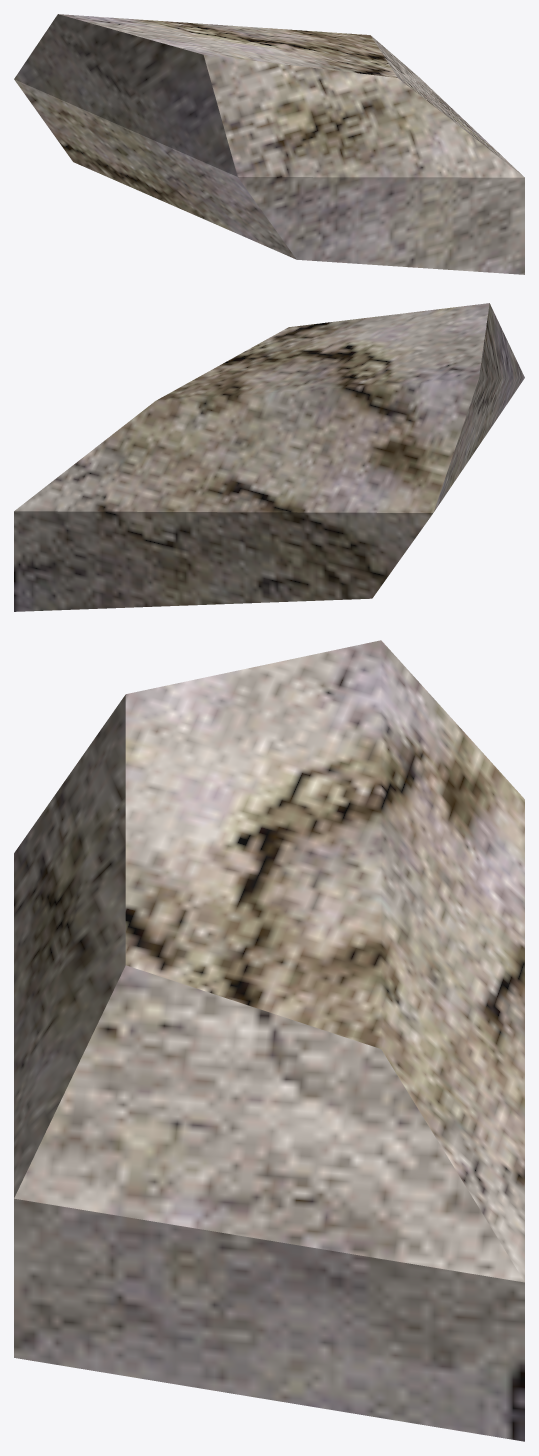
File: boulder.fbx
The picture shows the model from 3 angles, top to bottom: view 1: azimuth 30°, elevation 25°; view 2: azimuth 150°, elevation 25°; view 3: azimuth 270°, elevation 25°; orthographic projection. The views are drawn at different scales.
Parts seen in each view (by area): view 1: mesh; view 2: mesh; view 3: mesh.
Part boxes in pixels (x1,y1,x2,y2): mesh: [14, 14, 524, 274]; mesh: [14, 303, 524, 611]; mesh: [14, 640, 524, 1441].
Bounding box in the file's own units: 300 × 206 × 200.
Materials: 1 (1 with a texture image).
